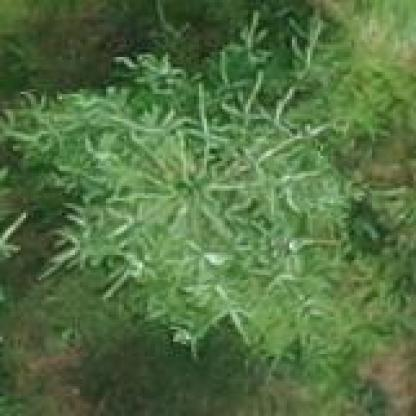Coniferous Tree: (17, 0, 409, 362)
